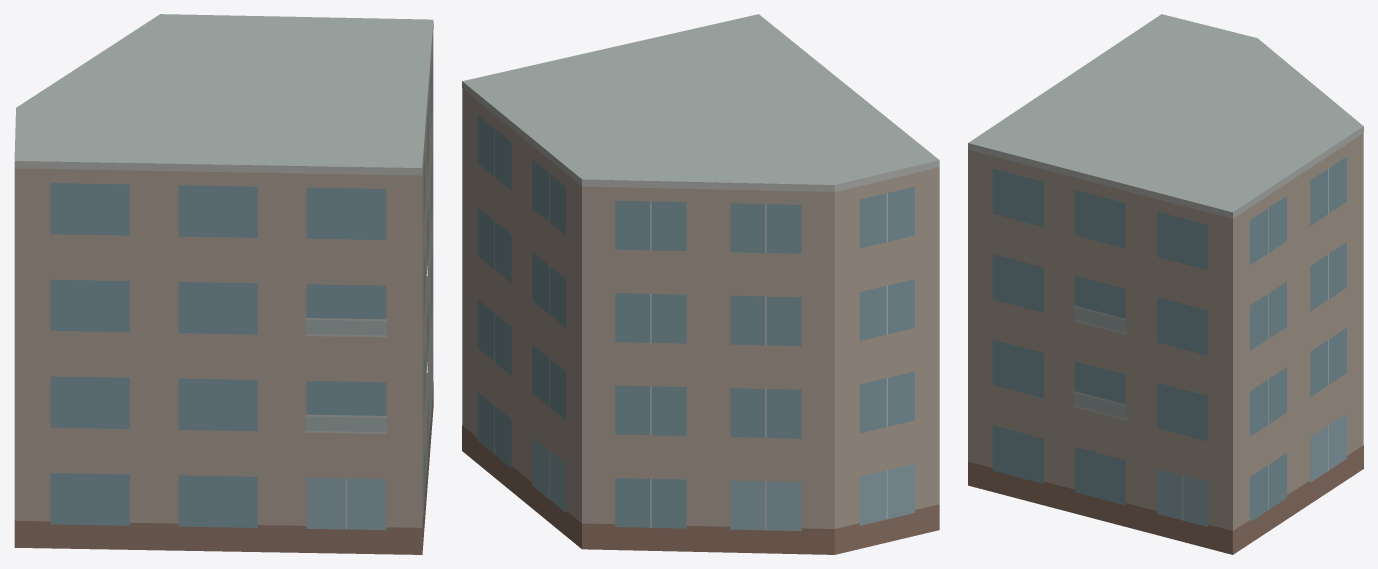
Rendered from survey-upis-32755265.glb.
3 renders of one model, left to right at view 1: azimuth 30°, elevation 25°; view 2: azimuth 150°, elevation 25°; view 3: azimuth 270°, elevation 25°, orthographic. The views are drawn at different scales.
Parts seen in each view (by area): view 1: survey-upis-32755265.tmp; view 2: survey-upis-32755265.tmp; view 3: survey-upis-32755265.tmp.
Boxes of the visible parts, x1=… form: survey-upis-32755265.tmp: x1=14, y1=14, x2=433, y2=554; survey-upis-32755265.tmp: x1=462, y1=14, x2=939, y2=554; survey-upis-32755265.tmp: x1=968, y1=14, x2=1363, y2=554.
Bounding box in the file's own units: 15.79 × 12.7 × 13.31.
